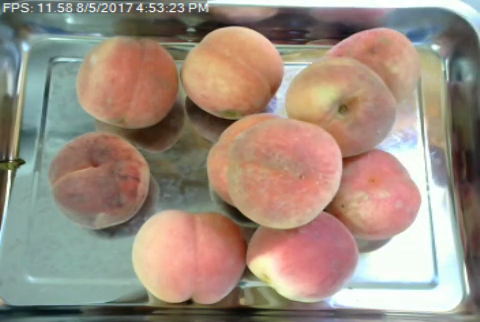Peach: (228, 119, 342, 227), (285, 55, 397, 153), (132, 210, 250, 303), (243, 208, 358, 301), (48, 130, 153, 228), (181, 25, 284, 118), (78, 36, 181, 127), (329, 147, 420, 236), (326, 26, 419, 104)
